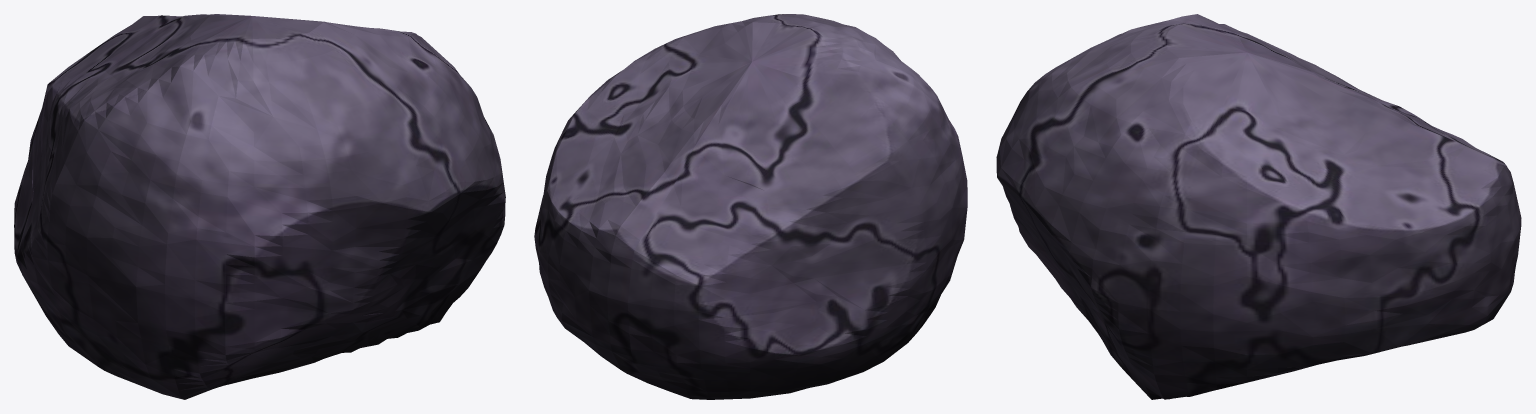
The model's file is rocha_b_v01.glb.
3 views of the same model, side by side, from view 1: azimuth 30°, elevation 25°; view 2: azimuth 150°, elevation 25°; view 3: azimuth 270°, elevation 25° (orthographic). The views are drawn at different scales.
Visible parts, largest first — view 1: rocha_b; view 2: rocha_b; view 3: rocha_b.
Part boxes in pixels (box(x1,y1,x2,y2)): rocha_b: box(14, 14, 505, 399); rocha_b: box(534, 14, 967, 399); rocha_b: box(996, 14, 1521, 399).
Size of the model in its own units: 0.9074 by 0.6651 by 1.06.
Materials: 1 (1 with a texture image).
